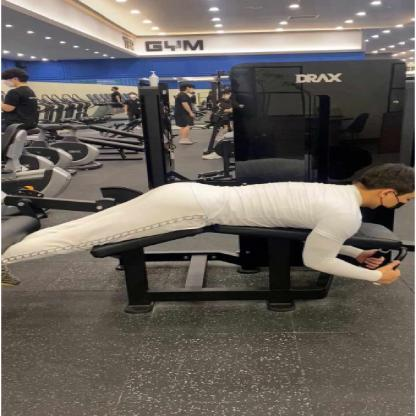reg curl machine: (0, 57, 416, 319)
